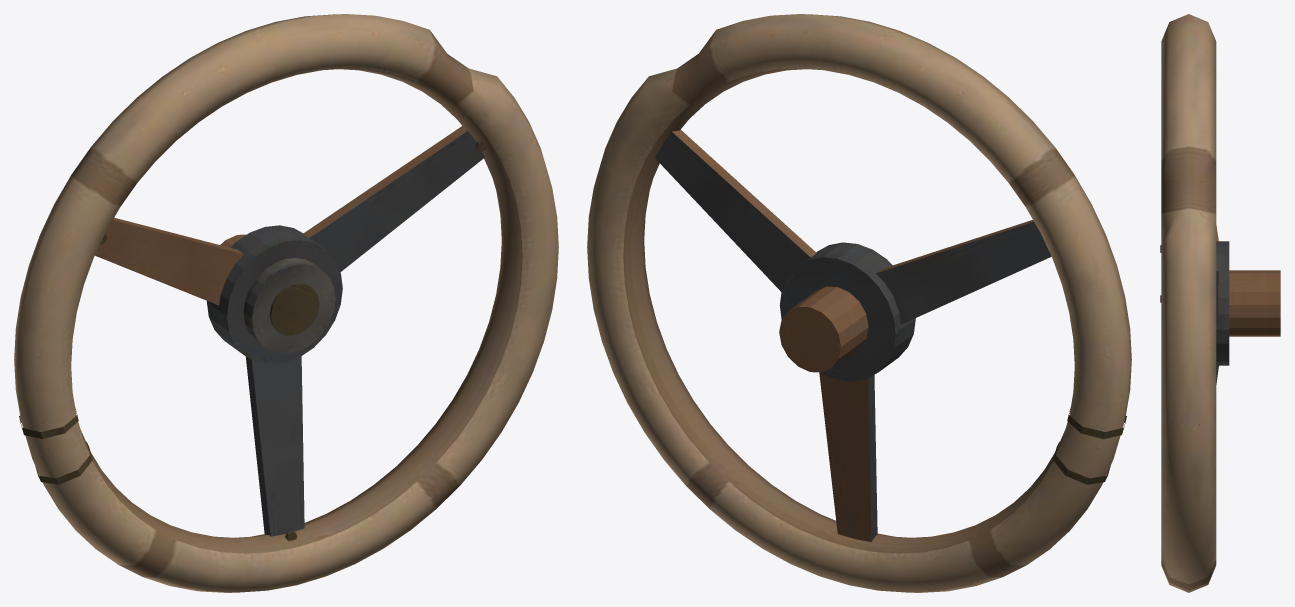
Rendered from JV19_steering_wheel.glb.
3 views of the same model, side by side, from view 1: azimuth 30°, elevation 25°; view 2: azimuth 150°, elevation 25°; view 3: azimuth 270°, elevation 25° (orthographic). The views are drawn at different scales.
Parts seen in each view (by area): view 1: Worn wooden steering rim; view 2: Worn wooden steering rim; view 3: Worn wooden steering rim.
Part boxes in pixels (bbox=[...]): Worn wooden steering rim: bbox=[14, 14, 558, 592]; Worn wooden steering rim: bbox=[587, 14, 1131, 592]; Worn wooden steering rim: bbox=[1160, 14, 1280, 592].
Size of the model in its own units: 0.4 by 0.4 by 0.0832.
Materials: 6 (6 with a texture image).
